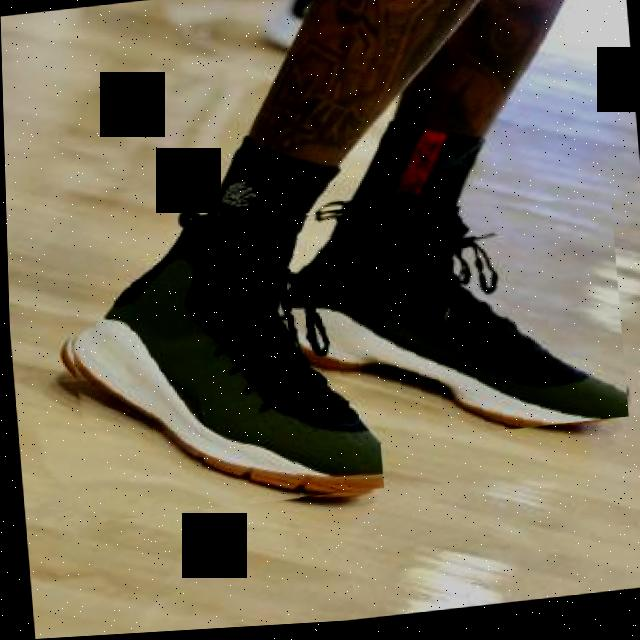shoe: (54, 211, 381, 526), (267, 186, 626, 459)
